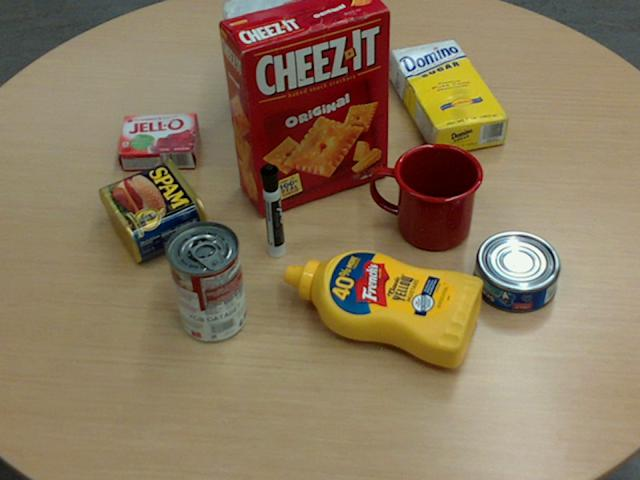cracker_box: (218, 0, 390, 215)
gelatin_box: (115, 111, 197, 168)
large_marker: (258, 164, 286, 258)
master_chef_can: (223, 0, 314, 129)
mug: (371, 141, 483, 249)
mustard_bottle: (283, 250, 482, 366)
potted_meat_can: (99, 156, 210, 261)
sugar_box: (388, 38, 509, 155)
tomato_soup_can: (163, 220, 245, 341)
tuna_fish_can: (473, 230, 560, 311)
